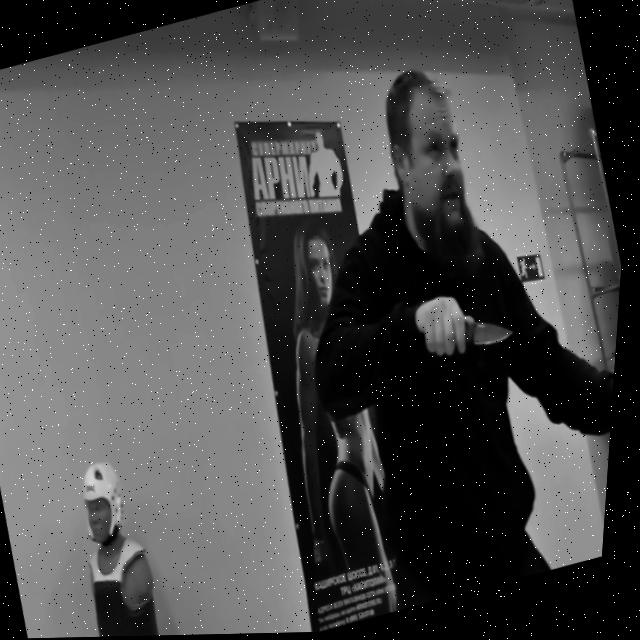knife: (468, 310, 523, 359)
